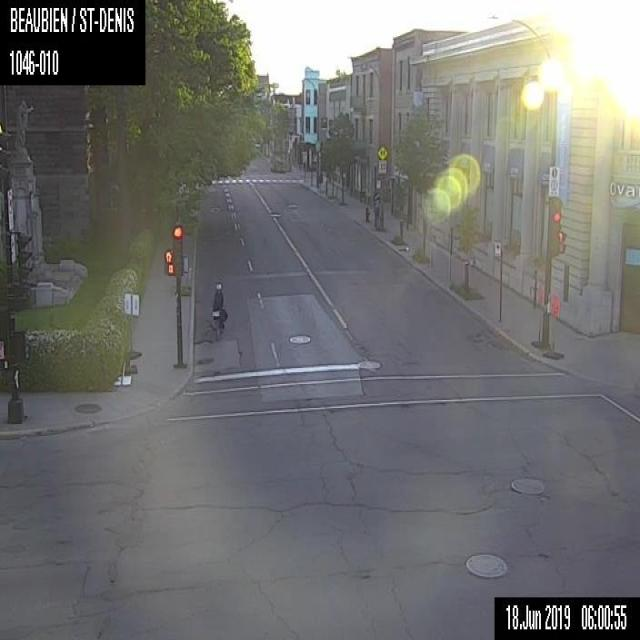construction: (541, 294, 563, 358), (531, 287, 544, 347)
cyclist: (210, 281, 227, 340)
